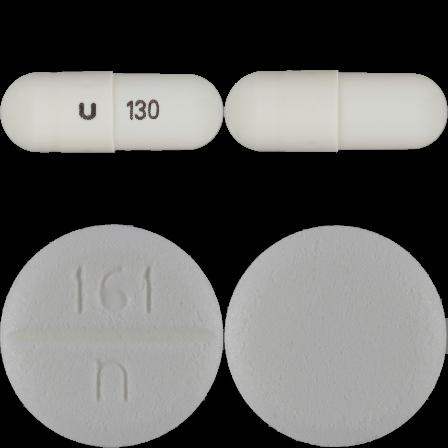64205-130: (0, 0, 224, 224)
